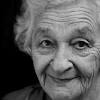No-Glasses: (31, 30, 90, 55)
